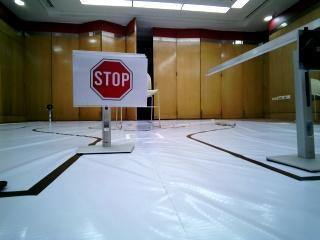stop: (79, 56, 140, 105)
